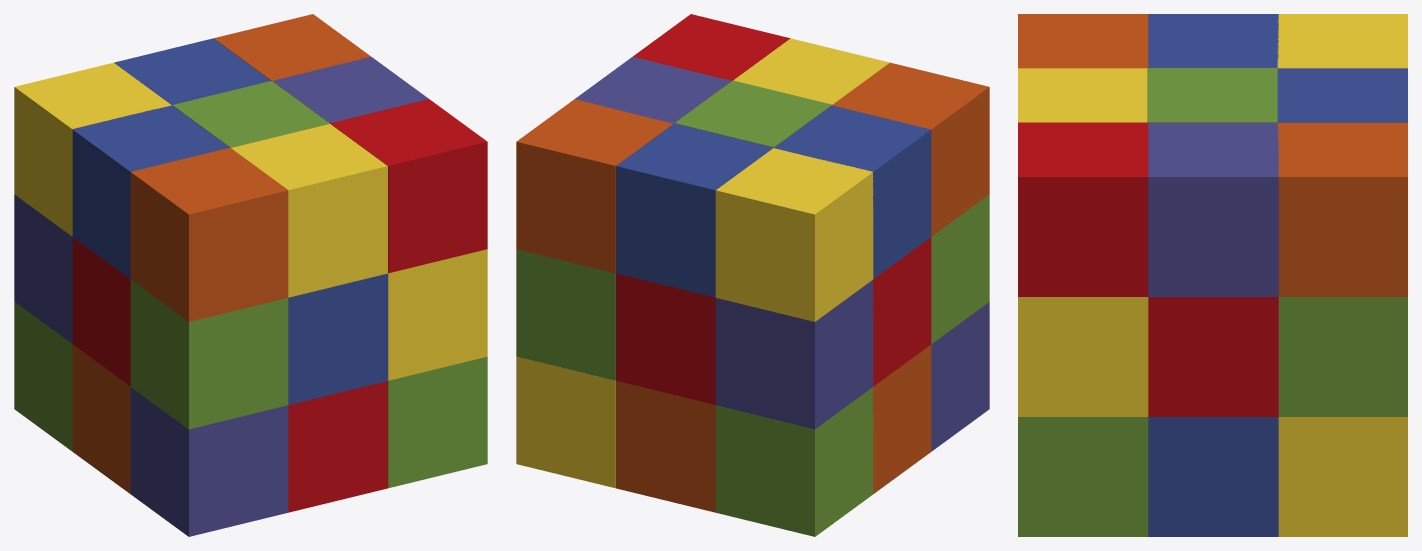
Rendered from cubocolorido.FBX.
The picture shows the model from 3 angles, left to right: view 1: azimuth 30°, elevation 25°; view 2: azimuth 150°, elevation 25°; view 3: azimuth 270°, elevation 25°; orthographic projection. The views are drawn at different scales.
Parts seen in each view (by area): view 1: Box007, Box002, Box006, Box025, Box018, Box008, Box009, Box012, Box021, Box014, Box024, Box003 (+7 smaller); view 2: Box009, Box003, Box005, Box016, Box027, Box007, Box008, Box011, Box022, Box015, Box023, Box002 (+7 smaller); view 3: Box025, Box026, Box027, Box019, Box020, Box021, Box024, Box022, Box023, Box016, Box017, Box007 (+3 smaller).
Part boxes in pixels (<box>): Box007: <box>130,147,288,321</box>; Box002: <box>130,387,288,536</box>; Box006: <box>130,280,288,429</box>; Box025: <box>330,99,487,273</box>; Box018: <box>231,124,387,297</box>; Box008: <box>72,105,229,278</box>; Box009: <box>14,62,171,236</box>; Box012: <box>288,381,387,512</box>; Box021: <box>388,356,487,488</box>; Box014: <box>288,273,387,404</box>; Box024: <box>388,249,487,380</box>; Box003: <box>14,302,72,451</box>; Box009: <box>715,148,873,321</box>; Box003: <box>715,387,873,536</box>; Box005: <box>715,280,873,429</box>; Box016: <box>616,123,773,297</box>; Box027: <box>516,99,673,273</box>; Box007: <box>832,62,989,236</box>; Box008: <box>774,105,931,278</box>; Box011: <box>616,381,715,512</box>; Box022: <box>516,356,615,488</box>; Box015: <box>616,273,715,404</box>; Box023: <box>516,249,615,380</box>; Box002: <box>931,302,989,451</box>; Box025: <box>1018,122,1148,296</box>; Box026: <box>1148,122,1278,296</box>; Box027: <box>1277,122,1407,296</box>; Box019: <box>1148,297,1278,416</box>; Box020: <box>1148,417,1278,536</box>; Box021: <box>1018,417,1148,536</box>; Box024: <box>1018,297,1148,416</box>; Box022: <box>1278,417,1407,536</box>; Box023: <box>1278,297,1407,416</box>; Box016: <box>1277,68,1407,122</box>; Box017: <box>1147,68,1277,122</box>; Box007: <box>1018,14,1148,68</box>.
Size of the model in its own units: 116 by 120 by 117.
6 materials, 6 textured.
